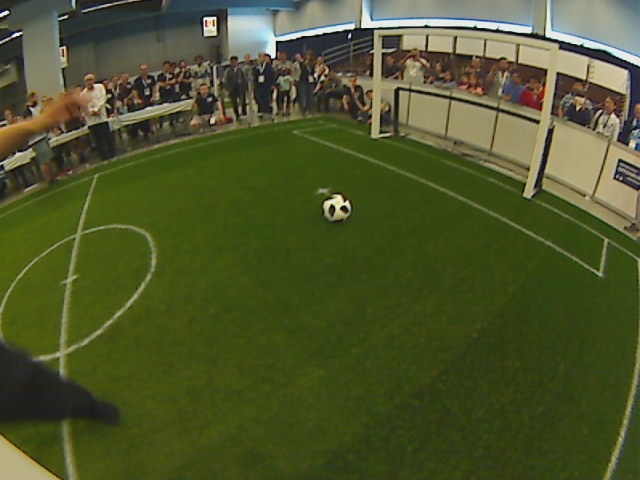ball: (318, 191, 352, 223)
